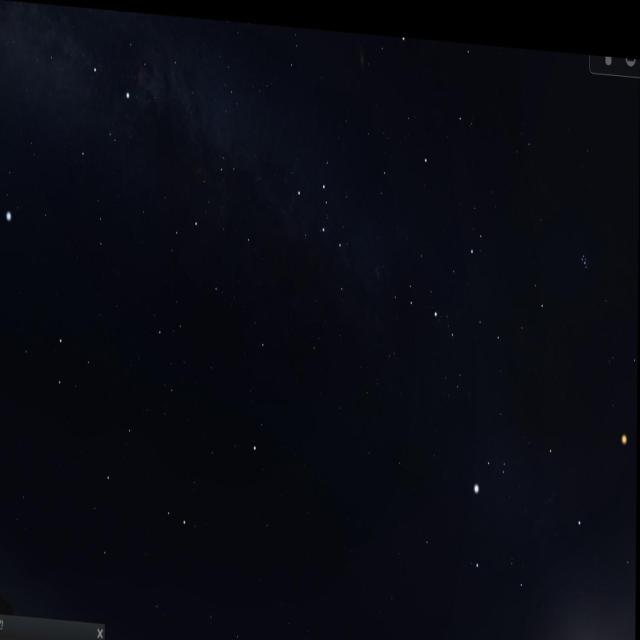cassiopeia: (293, 152, 361, 295)
moon: (556, 592, 604, 640)
